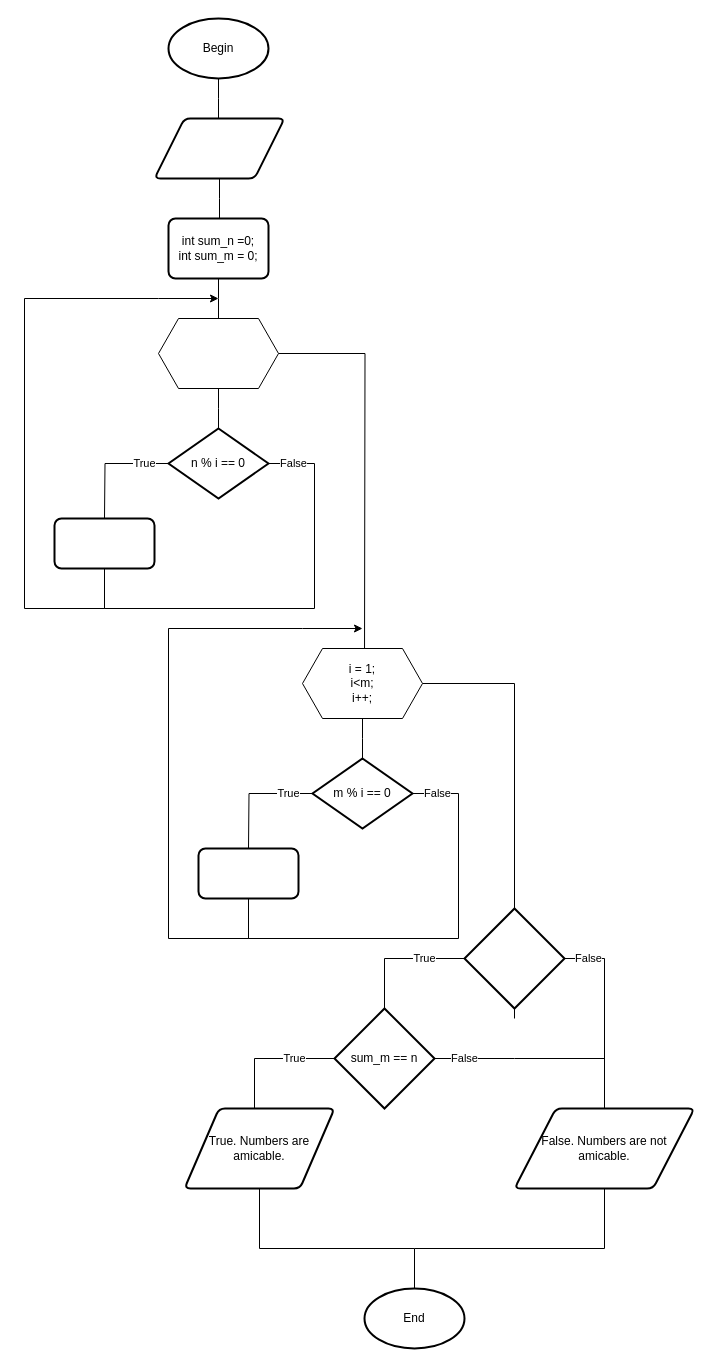
Image size: 713x1366. Some labels were removed from this diagram. The shapes that lost their labels are listed below. From the top down, each one's centre as x and y in pixels, then its label:
At (219,148): "Read: n, m є N".
At (218,353): "i = 1; i<n; i++;".
At (104,543): "sum_n += i;".
At (248,873): "sum_m += i;".
At (514,958): "sum_n == m".
